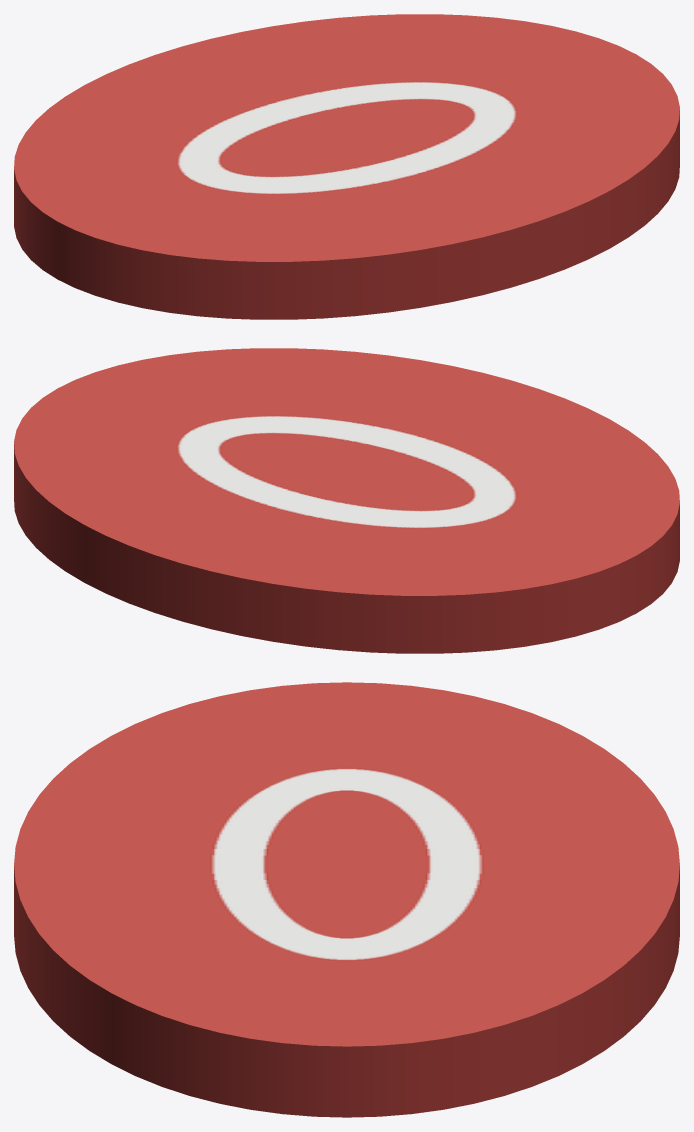
Rendered from stroke_oval.glb.
3 views of the same model, one above another, from view 1: azimuth 30°, elevation 25°; view 2: azimuth 150°, elevation 25°; view 3: azimuth 270°, elevation 25° (orthographic). The views are drawn at different scales.
Parts seen in each view (by area): view 1: stroke_oval; view 2: stroke_oval; view 3: stroke_oval.
Part boxes in pixels (x1,y1,x2,y2): stroke_oval: [14, 14, 679, 319]; stroke_oval: [14, 348, 679, 653]; stroke_oval: [14, 682, 679, 1117].
Size of the model in its own units: 0.044 by 0.004 by 0.034.
Materials: 2 (1 with a texture image).
